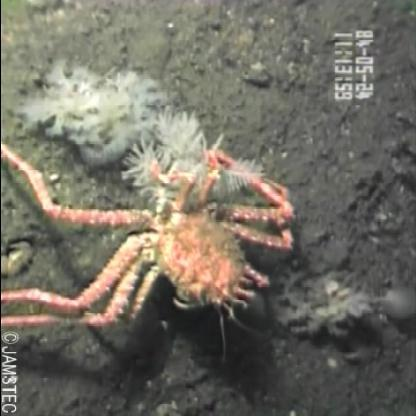Bio: (1, 106, 302, 334)
